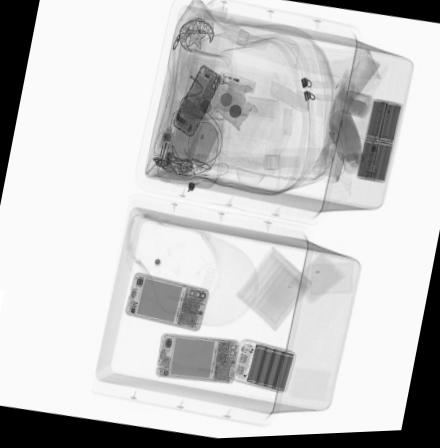Lighter: (216, 70, 255, 96)
